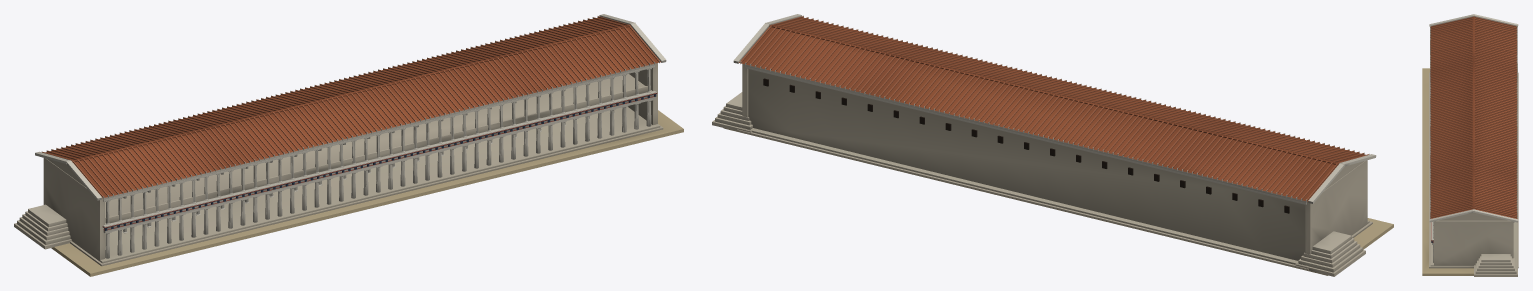
Rendered from stoa-attalos.glb.
3 renders of one model, left to right at view 1: azimuth 30°, elevation 25°; view 2: azimuth 150°, elevation 25°; view 3: azimuth 270°, elevation 25°, orthographic. The views are drawn at different scales.
Visible parts, largest first — view 1: p3_roof, p0_base, p2_upper floor, p1_ground floor; view 2: p1_ground floor, p3_roof, p0_base; view 3: p3_roof, p1_ground floor, p0_base.
Boxes of the visible parts, bbox=[...] form: p3_roof: bbox=[35, 14, 666, 201]; p0_base: bbox=[51, 106, 683, 276]; p2_upper floor: bbox=[102, 68, 657, 233]; p1_ground floor: bbox=[14, 63, 657, 259]; p1_ground floor: bbox=[712, 64, 1367, 276]; p3_roof: bbox=[733, 14, 1376, 204]; p0_base: bbox=[723, 127, 1393, 275]; p3_roof: bbox=[1429, 14, 1518, 222]; p1_ground floor: bbox=[1433, 63, 1517, 276]; p0_base: bbox=[1422, 68, 1518, 275].
Size of the model in its own units: 120 by 16.05 by 23.
